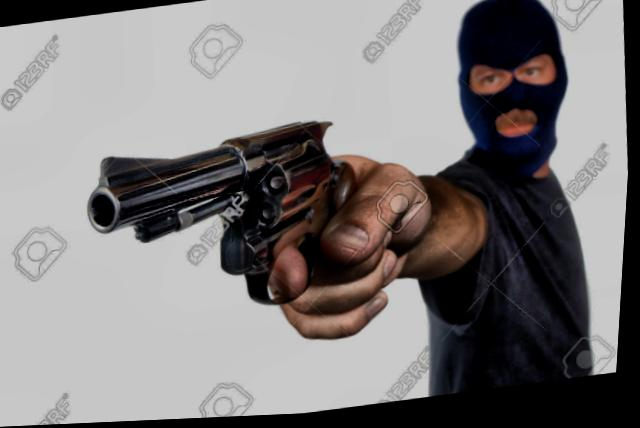pistol: (75, 89, 380, 350)
